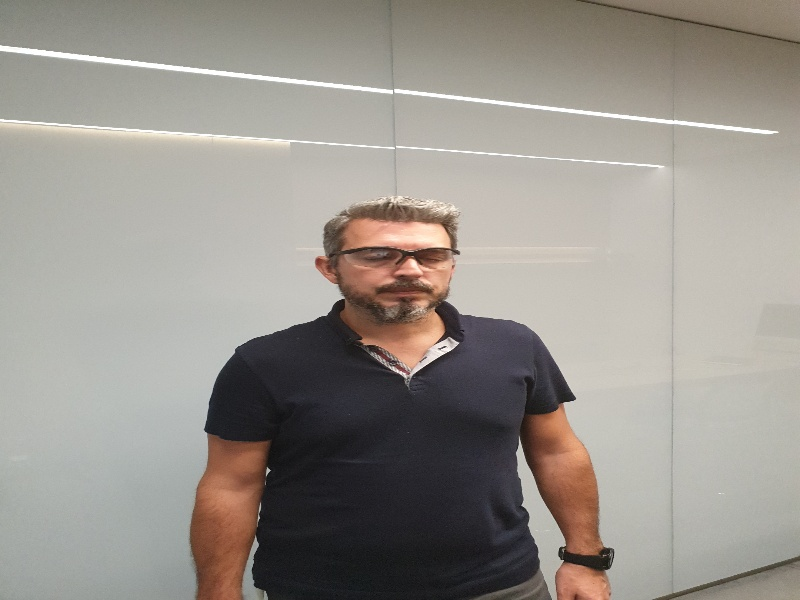Gozluk: (328, 247, 459, 269)
